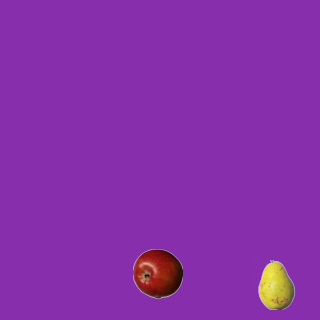Apple Braeburn: (132, 248, 182, 298)
Pear Monster: (251, 259, 301, 309)
